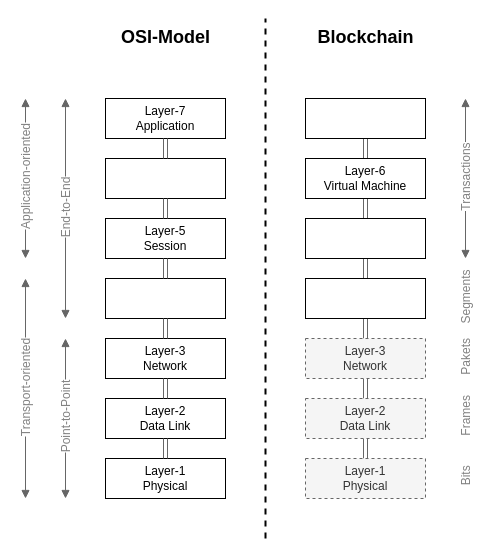
The diagram is 492 pixels wide and 557 high, and some of its shapes have lost their labels. The shapes that lost their labels are listed below. From the top down, each one's centre as x and y in pixels, then its label:
At [365,118]: "Layer-7 Top-Level-APIs".
At [165,178]: "Layer-6 Presentation".
At [365,238]: "Layer-5 Consensus".
At [165,298]: "Layer-4 Transport".
At [365,298]: "Layer-4 P2P-Network".
